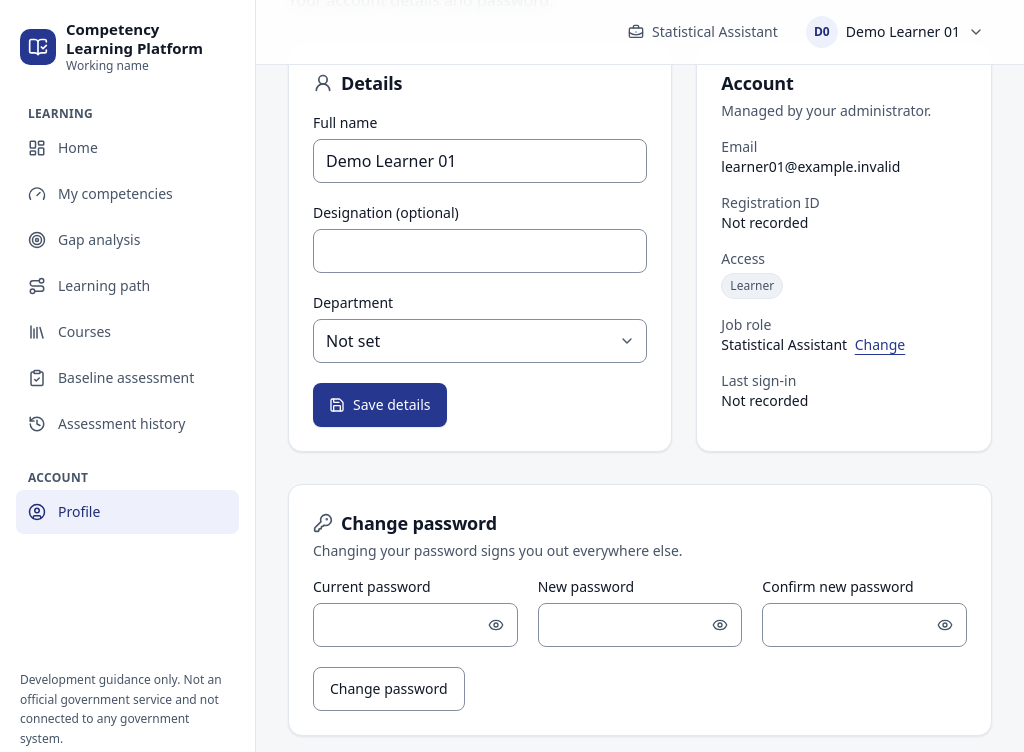
Test case: profile › shows an incorrect current password on the field
(page scrolled)
Type "wrong password value" into the password field labelled "Current password".
click(415, 625); type("wrong password value")  # box x1=313 y1=603 x2=518 y2=647
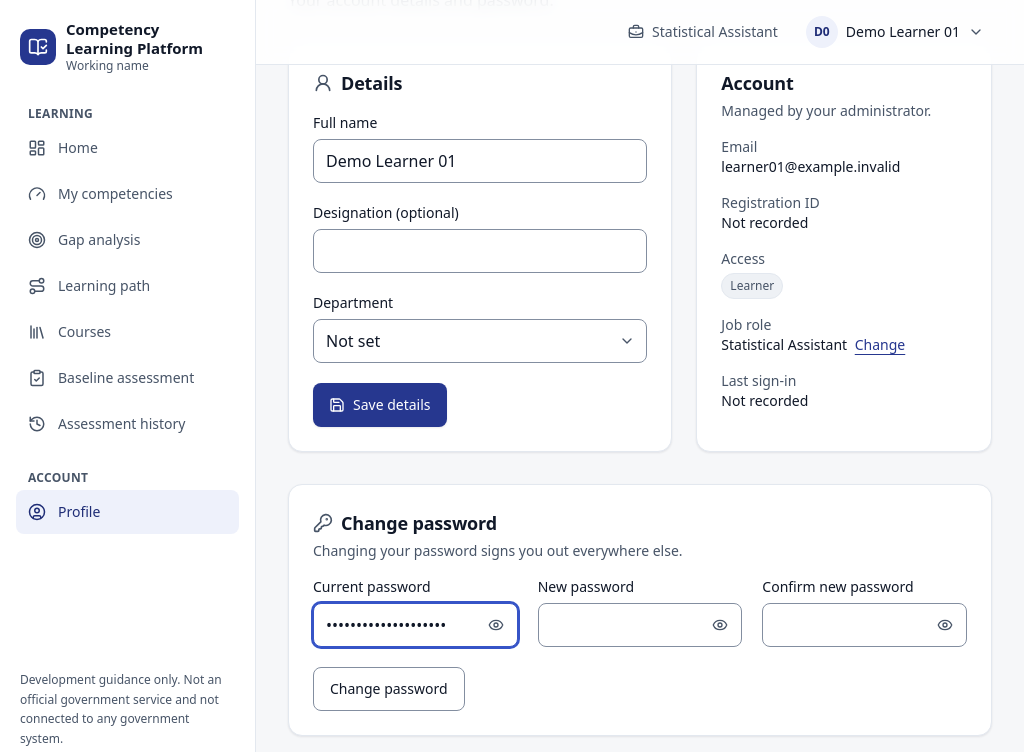
Type "new password value" into the password field labelled "New password".
click(640, 625); type("new password value")  # box x1=538 y1=603 x2=742 y2=647
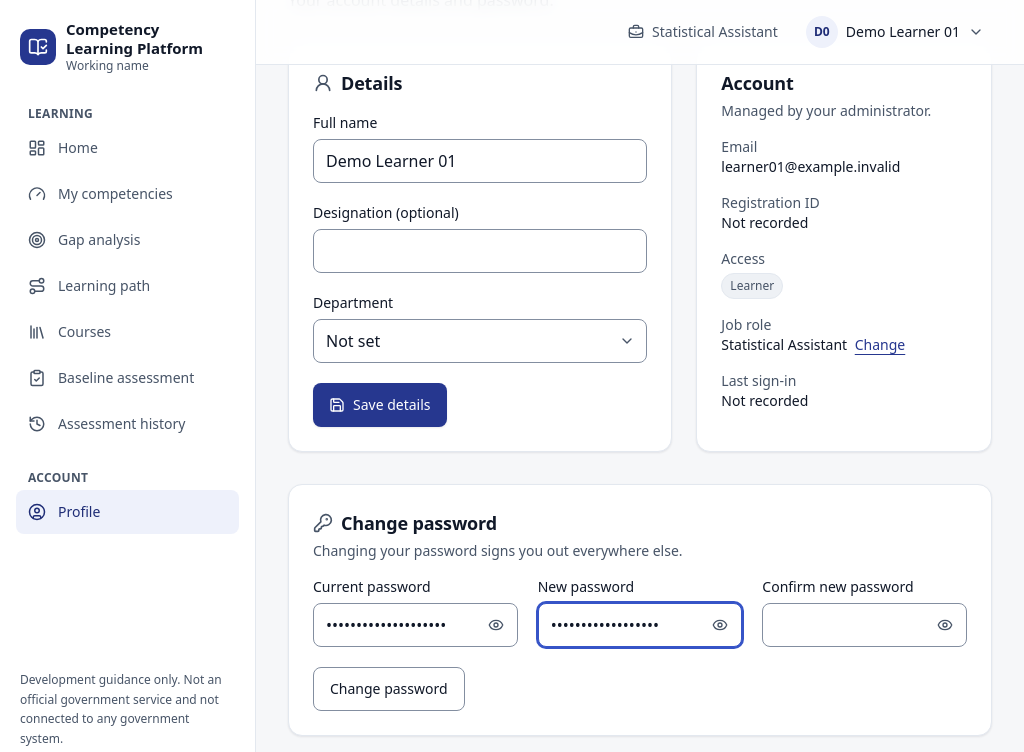
Type "new password value" into the password field labelled "Confirm new password".
click(865, 625); type("new password value")  # box x1=762 y1=603 x2=967 y2=647
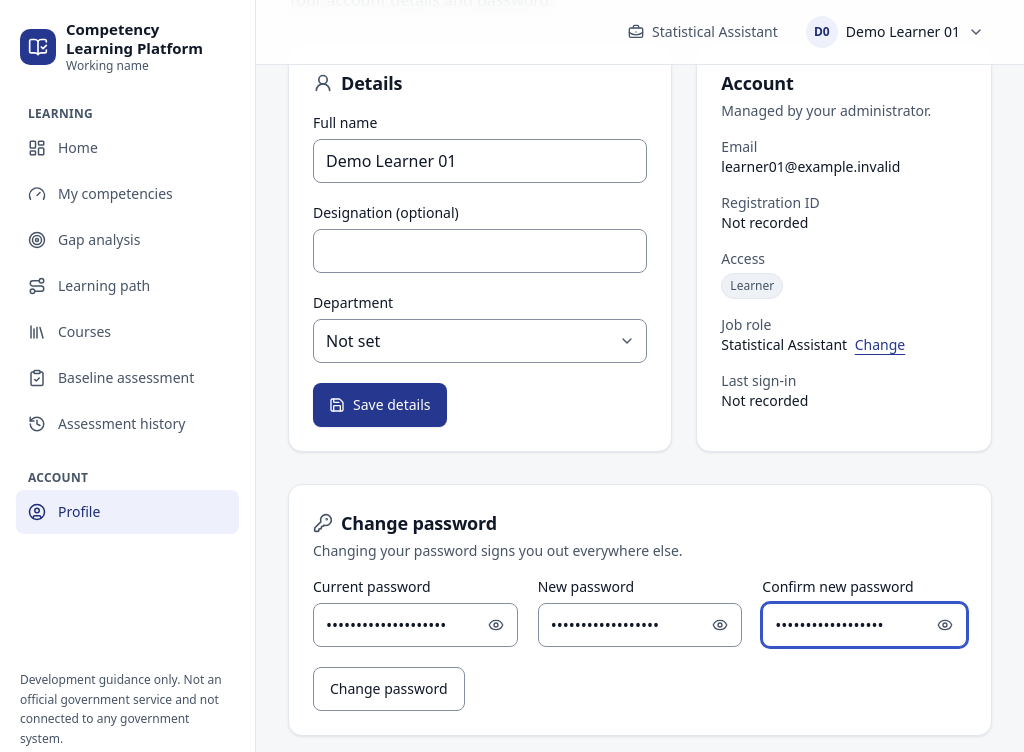
Click the button "Change password".
click(389, 689)  # box x1=313 y1=667 x2=465 y2=711
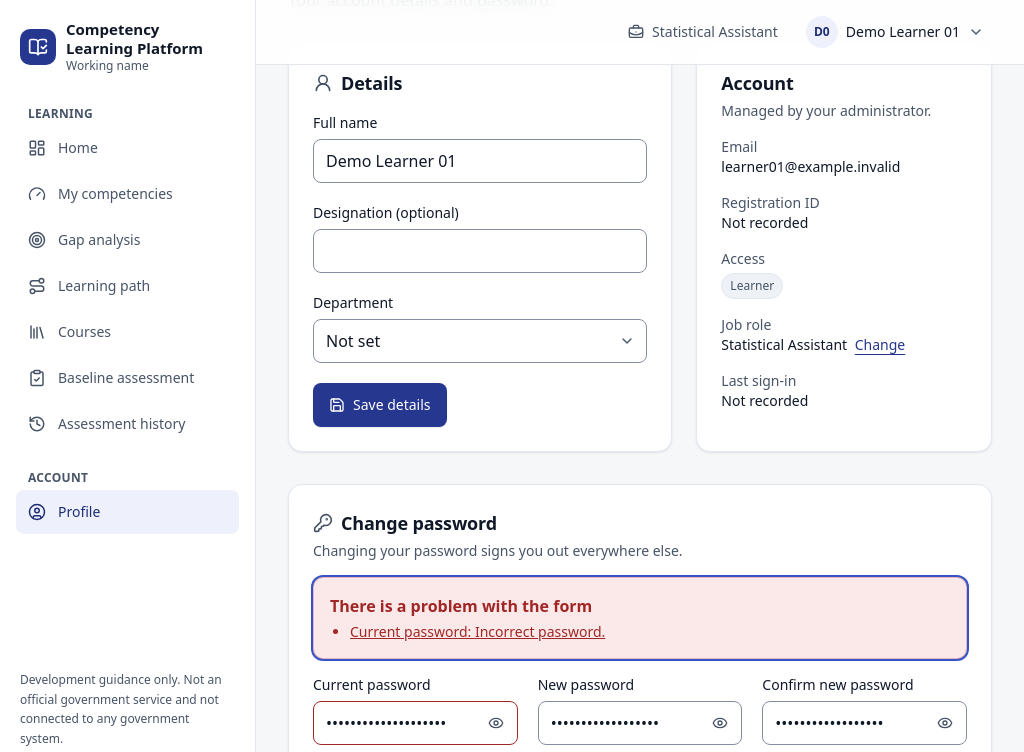
Result: the link "Current password: Incorrect password." is shown at x1=350 y1=622 x2=605 y2=641
